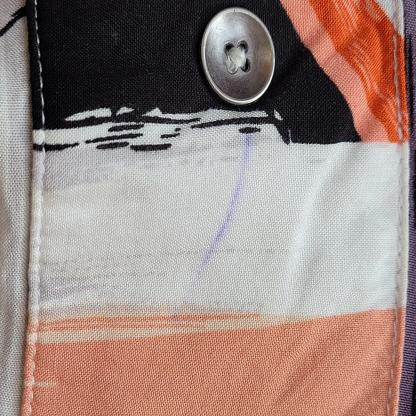spot: (185, 133, 258, 295)
